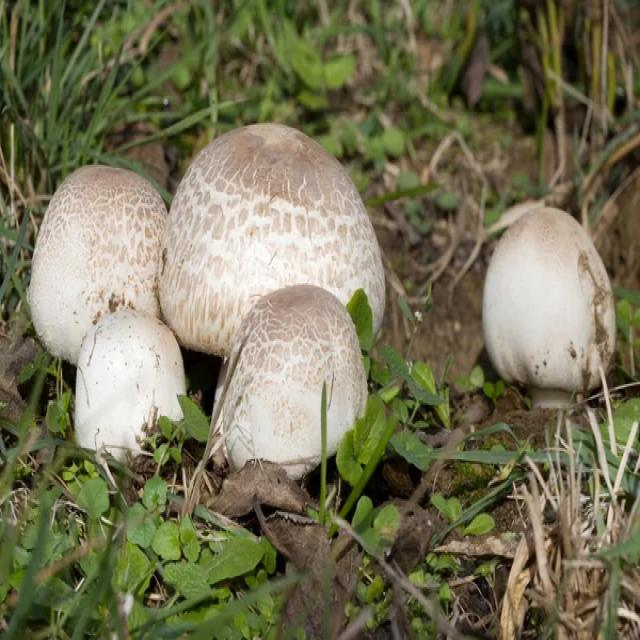field-mushroom: (156, 123, 391, 363), (209, 285, 368, 480), (26, 165, 170, 370), (481, 205, 618, 411), (75, 310, 186, 464)
